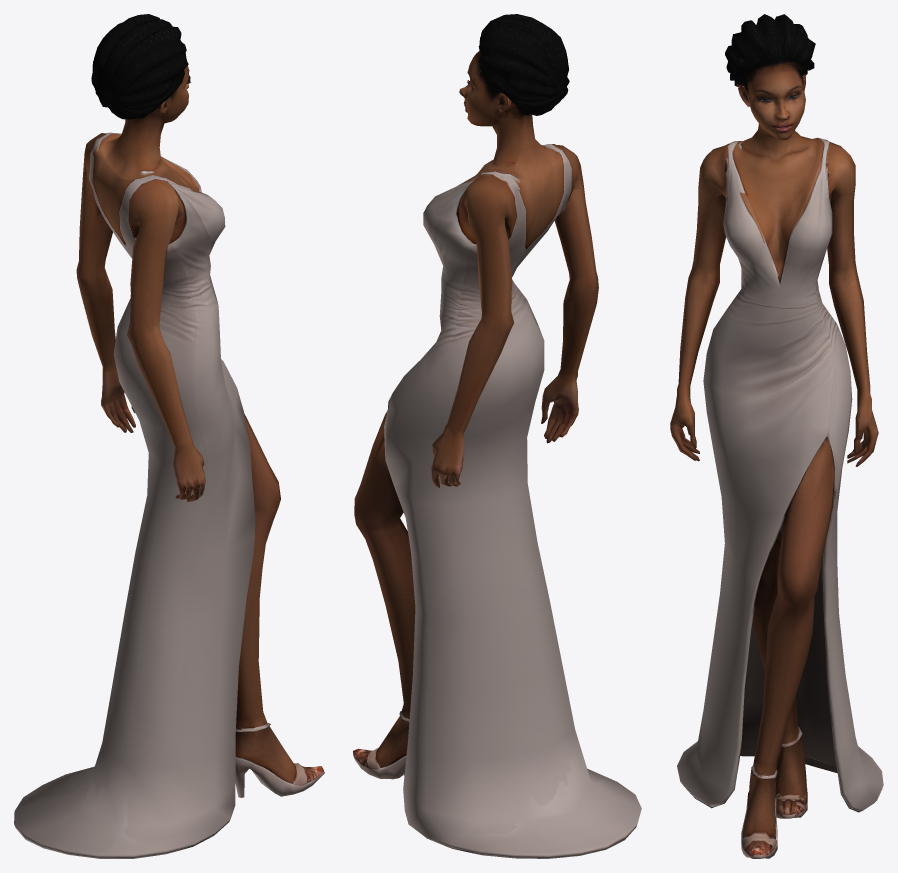
The model's file is black_woman_dress.glb.
The picture shows the model from 3 angles, left to right: view 1: azimuth 30°, elevation 25°; view 2: azimuth 150°, elevation 25°; view 3: azimuth 270°, elevation 25°; orthographic projection. The views are drawn at different scales.
Visible parts, largest first — view 1: tripo_node_6d1a3521-b9fd-43cb-9502-f9513e30fccd; view 2: tripo_node_6d1a3521-b9fd-43cb-9502-f9513e30fccd; view 3: tripo_node_6d1a3521-b9fd-43cb-9502-f9513e30fccd.
Boxes of the visible parts, left/top/right/bottom form: tripo_node_6d1a3521-b9fd-43cb-9502-f9513e30fccd: left=14, top=14, right=324, bottom=858; tripo_node_6d1a3521-b9fd-43cb-9502-f9513e30fccd: left=353, top=14, right=641, bottom=858; tripo_node_6d1a3521-b9fd-43cb-9502-f9513e30fccd: left=670, top=14, right=883, bottom=858.
Bounding box in the file's own units: 0.377 × 0.998 × 0.252.
1 material, 1 textured.
